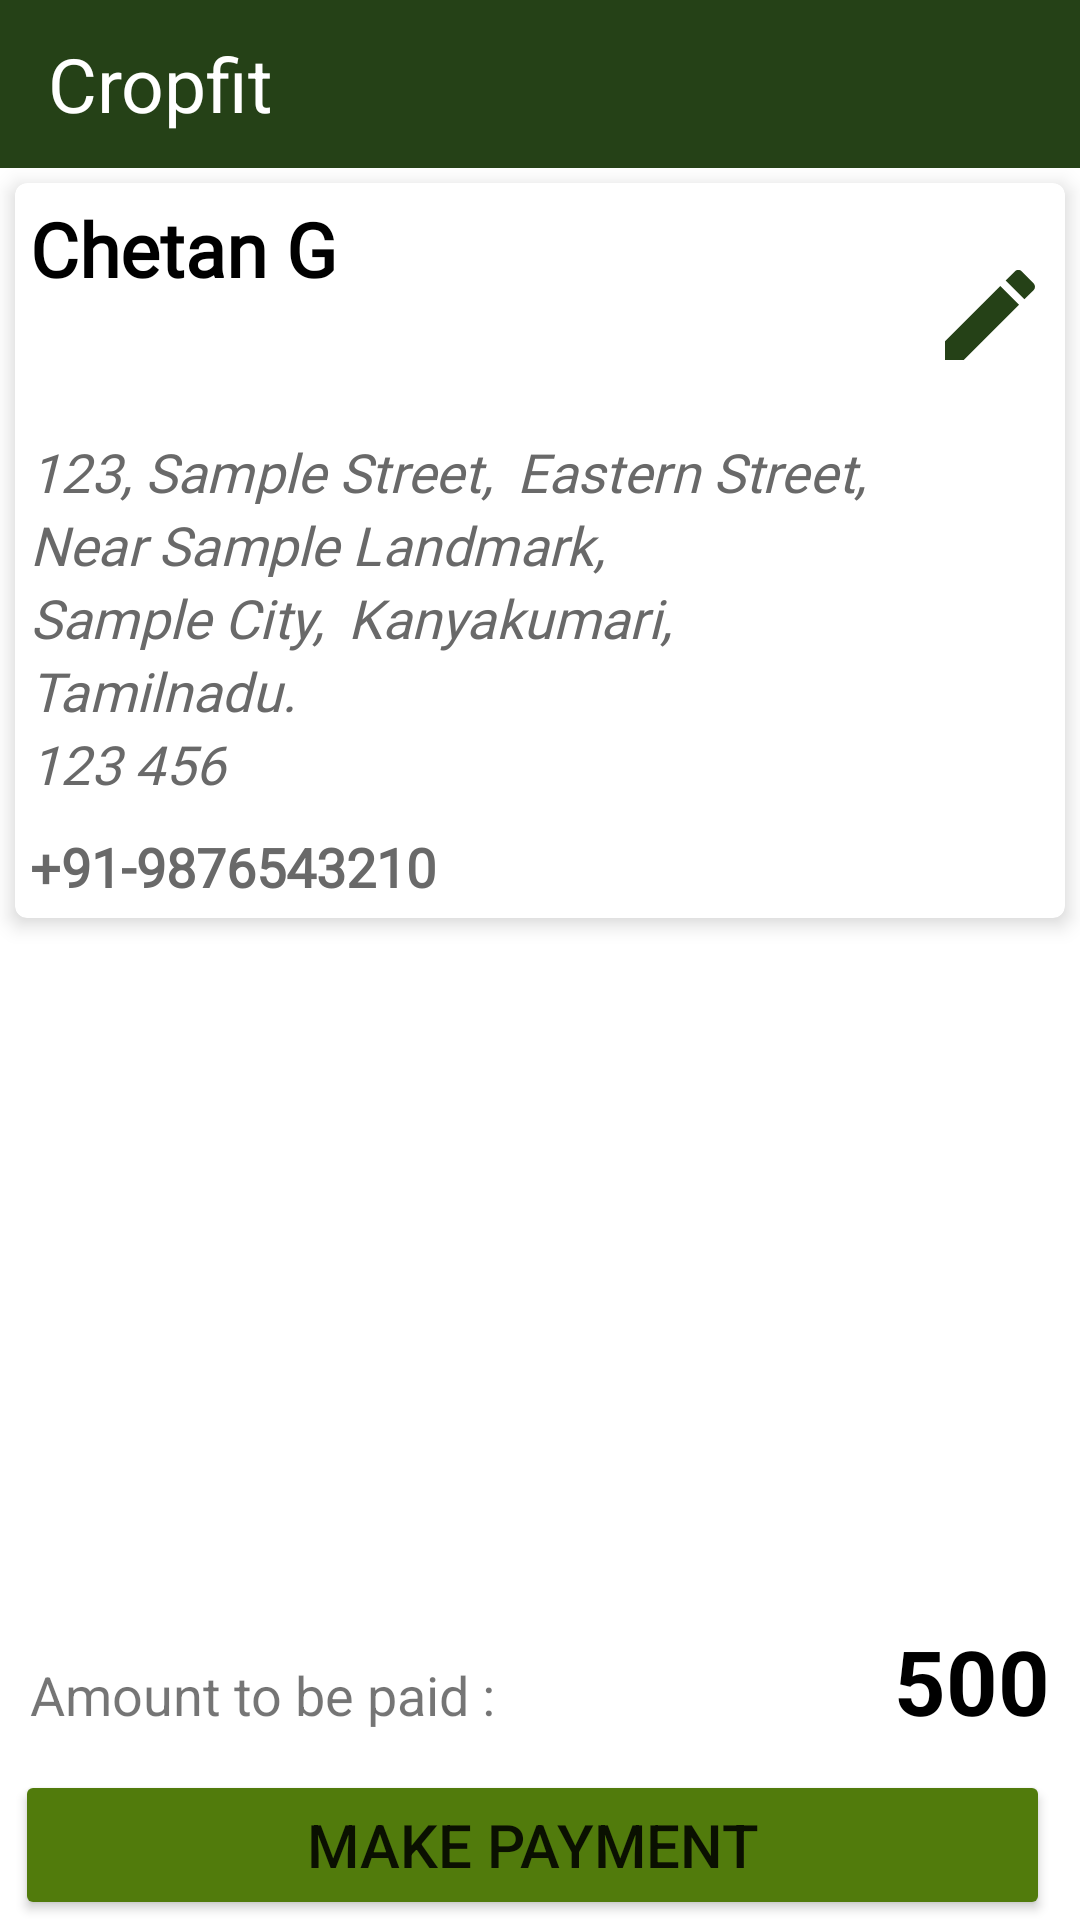

Icons on this 1080 x 1920 Android screen, each with its box as (x1, y1, x2, y2):
edit: (945, 270, 1035, 360)
